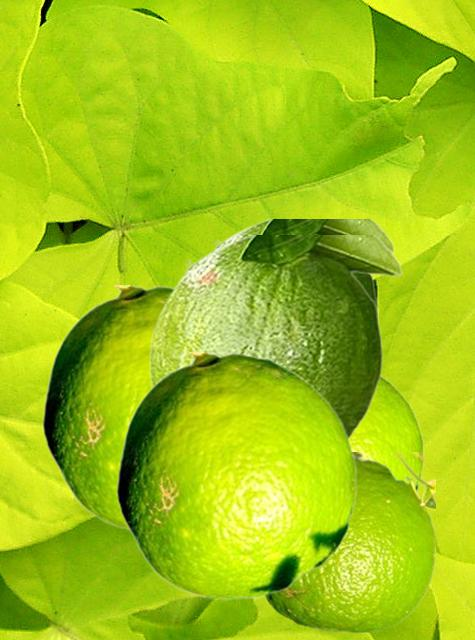dalandan: (116, 352, 356, 599), (148, 235, 402, 440), (42, 285, 173, 532), (263, 452, 434, 632), (211, 219, 394, 322), (351, 376, 423, 492)
